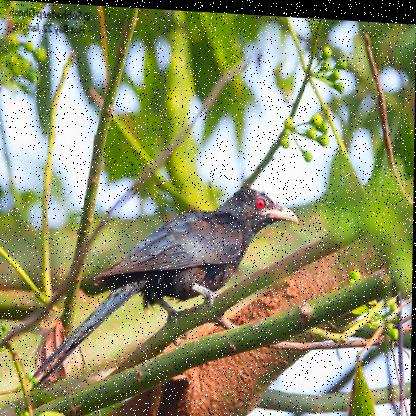Burung: (29, 175, 302, 402)
